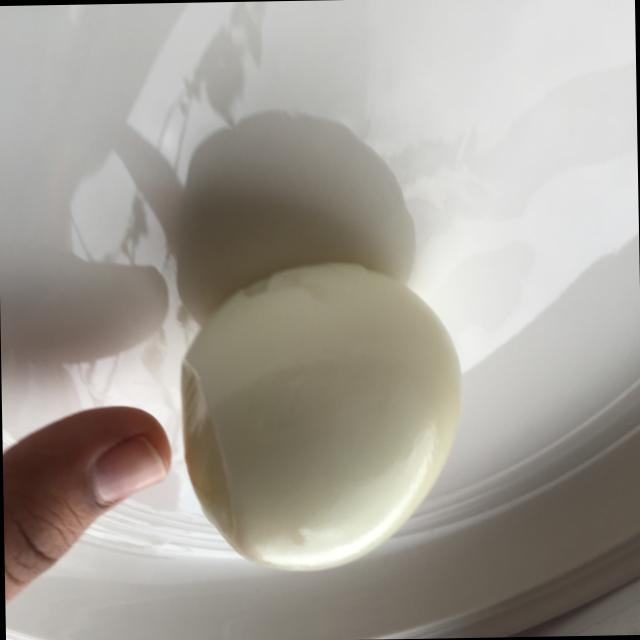Egg: (172, 244, 484, 579)
Finger: (14, 386, 178, 598)
